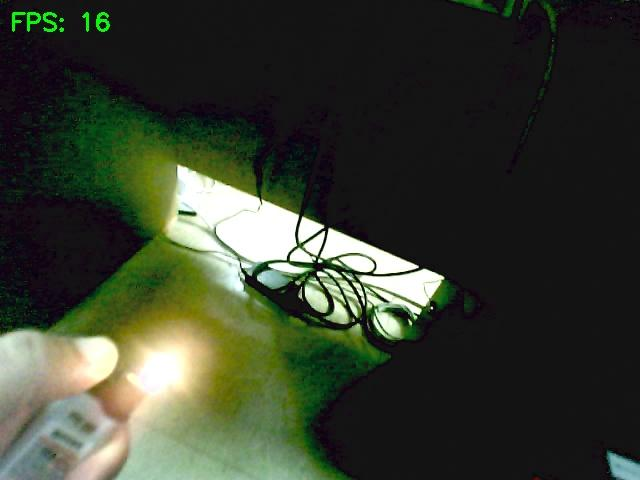fire: (146, 355, 183, 385)
